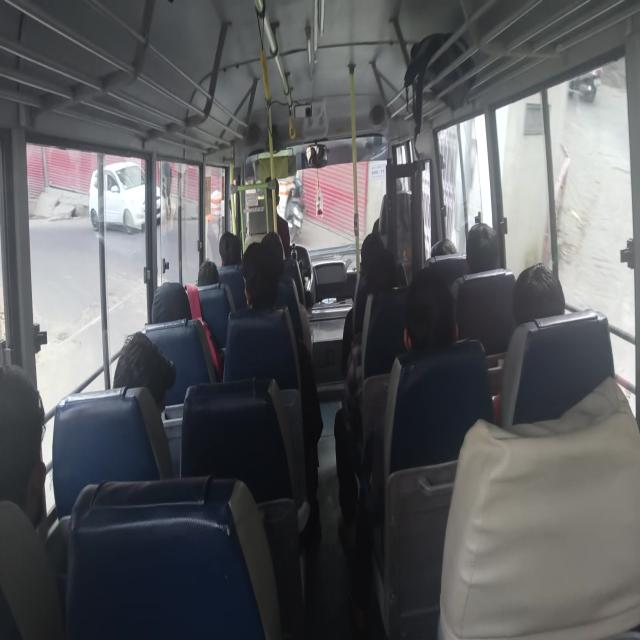person: (1, 354, 56, 511), (401, 265, 460, 360), (112, 327, 176, 404), (512, 262, 570, 338), (240, 236, 276, 313), (150, 277, 190, 327), (466, 217, 504, 265), (216, 221, 244, 274), (368, 239, 392, 298), (425, 227, 459, 265), (356, 230, 382, 279), (263, 228, 286, 272), (197, 253, 218, 297), (383, 171, 409, 206), (261, 174, 279, 216)
